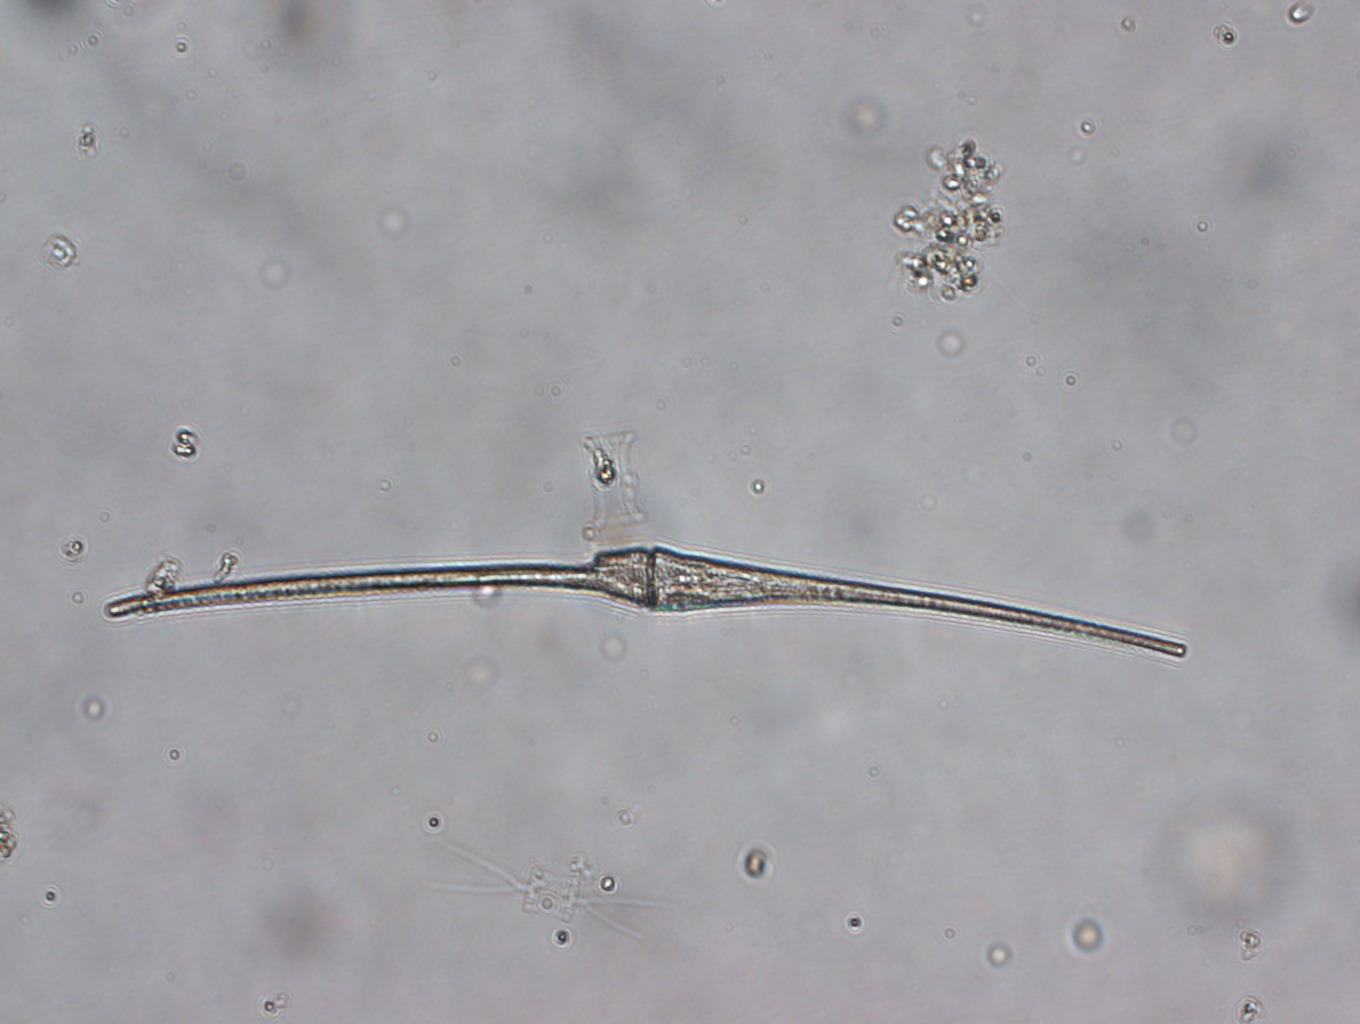ceratium fusus: (103, 543, 1186, 665)
